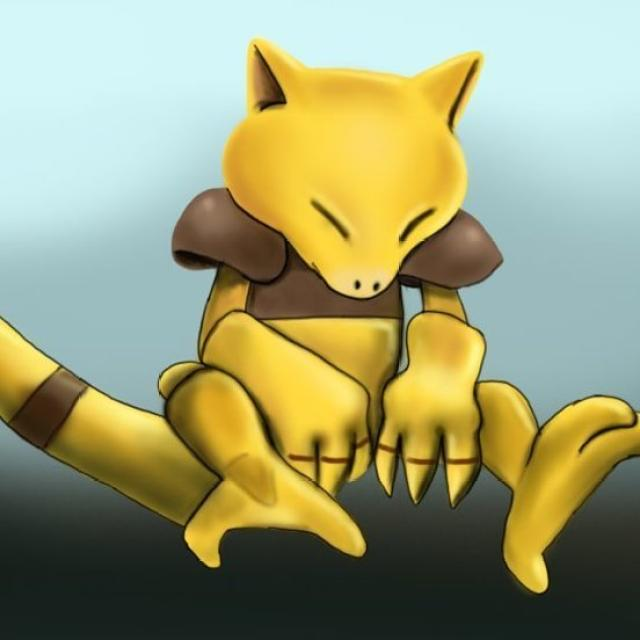Abra: (164, 45, 507, 530)
